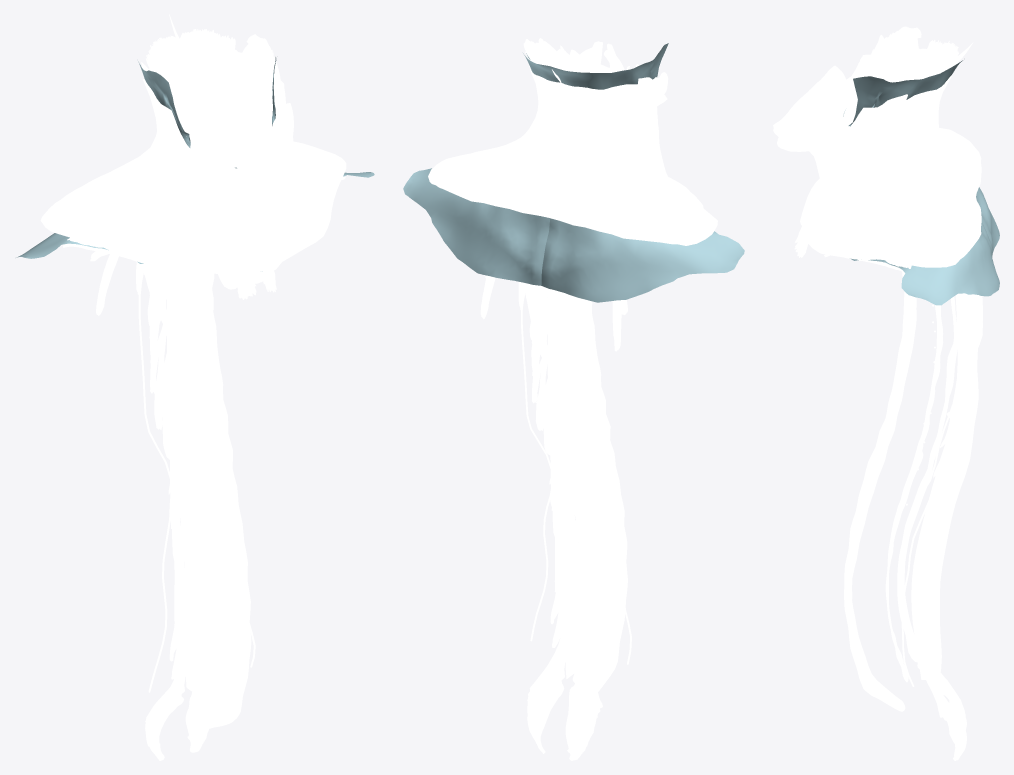
The model's file is neck.glb.
The picture shows the model from 3 angles, left to right: view 1: azimuth 30°, elevation 25°; view 2: azimuth 150°, elevation 25°; view 3: azimuth 270°, elevation 25°; orthographic projection. The views are drawn at different scales.
Visible parts, largest first — view 1: Anterior longitudinal ligament, Rotatores.r, Sternocleidomastoid region.r, Posterior region of neck.r, Posterior longitudinal ligament, Lateral region of neck.r, Sternocleidomastoid region.l, Greater supraclavicular fossa.r, Interspinous ligaments, Ligamenta flava, Platysma.r, Superficial investing cervical fascia.r (+14 smaller); view 2: Posterior region of neck.r, Superficial investing cervical fascia.r, Rotatores.r, Posterior region of neck.l, Superficial investing cervical fascia.l, Anterior longitudinal ligament, Rotatores.l, Interspinous ligaments, Lateral region of neck.r, Posterior longitudinal ligament, Splenius colli muscle.r, Splenius colli muscle.l (+3 smaller); view 3: Posterior region of neck.l, Interspinous ligaments, Superficial investing cervical fascia.l, Anterior longitudinal ligament, Lateral region of neck.l, Rotatores.l, Sternocleidomastoid region.l, Ligamenta flava, Greater supraclavicular fossa.l, Posterior longitudinal ligament, Platysma.r, Platysma.l (+13 smaller).
Boxes of the visible parts, bbox=[...] form: Anterior longitudinal ligament: bbox=[183, 105, 251, 731]; Rotatores.r: bbox=[145, 266, 194, 760]; Sternocleidomastoid region.r: bbox=[143, 79, 253, 277]; Posterior region of neck.r: bbox=[40, 137, 155, 246]; Posterior longitudinal ligament: bbox=[176, 273, 214, 700]; Lateral region of neck.r: bbox=[102, 68, 184, 272]; Sternocleidomastoid region.l: bbox=[262, 61, 323, 271]; Greater supraclavicular fossa.r: bbox=[119, 178, 181, 254]; Interspinous ligaments: bbox=[166, 271, 199, 691]; Ligamenta flava: bbox=[169, 273, 204, 675]; Platysma.r: bbox=[62, 126, 272, 278]; Superficial investing cervical fascia.r: bbox=[16, 61, 236, 263]; Posterior region of neck.r: bbox=[549, 83, 717, 245]; Superficial investing cervical fascia.r: bbox=[541, 43, 744, 302]; Rotatores.r: bbox=[553, 306, 606, 760]; Posterior region of neck.l: bbox=[428, 72, 567, 217]; Superficial investing cervical fascia.l: bbox=[403, 53, 559, 285]; Anterior longitudinal ligament: bbox=[574, 300, 627, 691]; Rotatores.l: bbox=[527, 295, 566, 753]; Interspinous ligaments: bbox=[547, 294, 577, 678]; Lateral region of neck.r: bbox=[603, 84, 703, 207]; Posterior longitudinal ligament: bbox=[572, 337, 603, 666]; Splenius colli muscle.r: bbox=[547, 289, 580, 366]; Splenius colli muscle.l: bbox=[524, 283, 547, 366]; Posterior region of neck.l: bbox=[875, 75, 981, 267]; Interspinous ligaments: bbox=[911, 297, 978, 680]; Superficial investing cervical fascia.l: bbox=[848, 60, 999, 305]; Anterior longitudinal ligament: bbox=[844, 271, 916, 711]; Lateral region of neck.l: bbox=[819, 89, 937, 259]; Rotatores.l: bbox=[913, 296, 972, 760]; Sternocleidomastoid region.l: bbox=[800, 94, 907, 252]; Ligamenta flava: bbox=[897, 296, 957, 662]; Greater supraclavicular fossa.l: bbox=[827, 184, 891, 244]; Posterior longitudinal ligament: bbox=[885, 305, 943, 682]; Platysma.r: bbox=[773, 65, 851, 133]; Platysma.l: bbox=[773, 111, 911, 273].
Bounding box in the file's own units: 0.3486 × 0.7023 × 0.2032.
